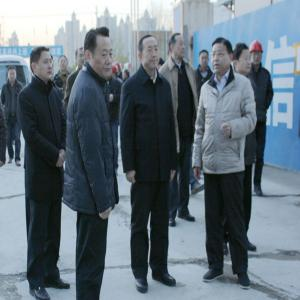none: (83, 27, 114, 80), (29, 46, 55, 83), (138, 32, 161, 71), (211, 38, 234, 74), (170, 31, 188, 61), (235, 44, 252, 75), (198, 49, 211, 69), (76, 46, 86, 69), (58, 54, 69, 74), (7, 66, 18, 83), (123, 67, 131, 81)
red: (249, 42, 264, 67), (111, 65, 119, 78), (116, 62, 122, 75)
